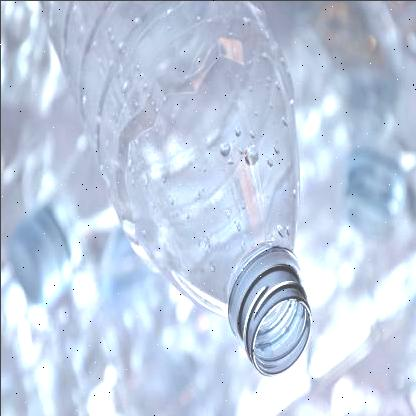Plastic Bottle: (46, 0, 310, 376)
